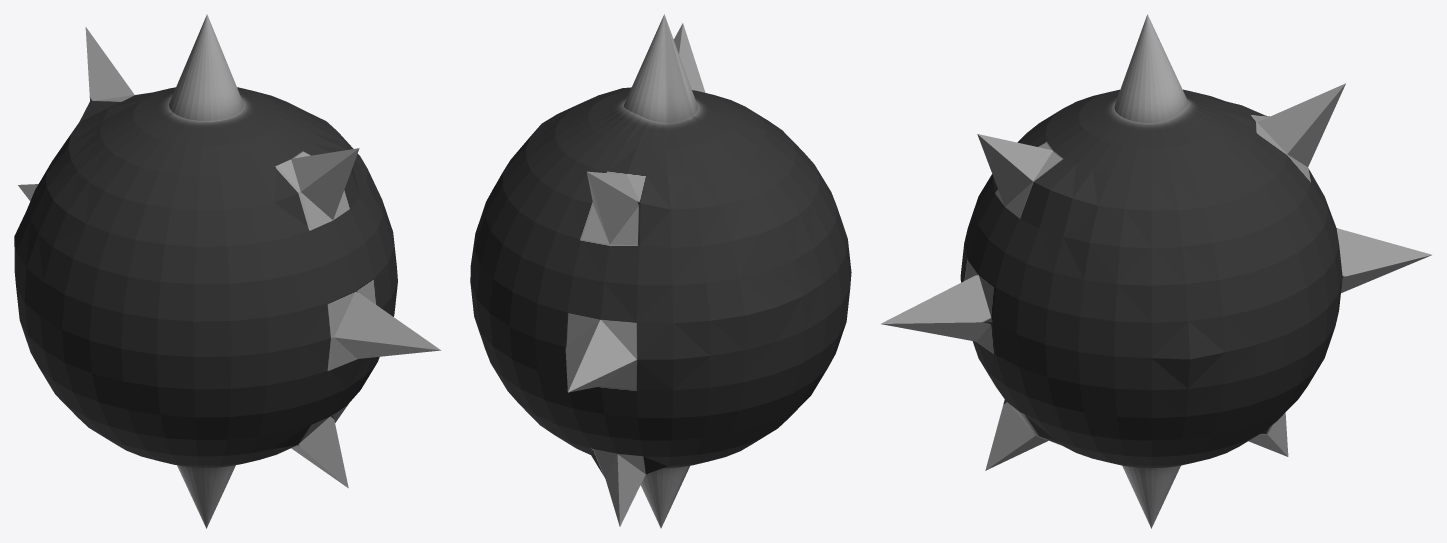
File: enemy.obj
3 views of the same model, side by side, from view 1: azimuth 30°, elevation 25°; view 2: azimuth 150°, elevation 25°; view 3: azimuth 270°, elevation 25° (orthographic).
Parts seen in each view (by area): view 1: 球; view 2: 球; view 3: 球.
Boxes of the visible parts, bbox=[...] form: 球: bbox=[14, 14, 440, 528]; 球: bbox=[470, 14, 851, 528]; 球: bbox=[881, 14, 1432, 528].
Size of the model in its own units: 1.11 by 1.64 by 1.6.
